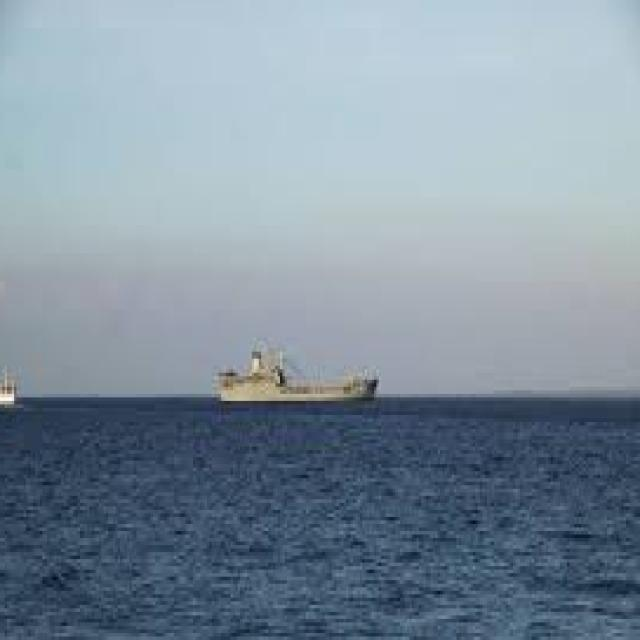cargoship: (218, 337, 384, 403)
